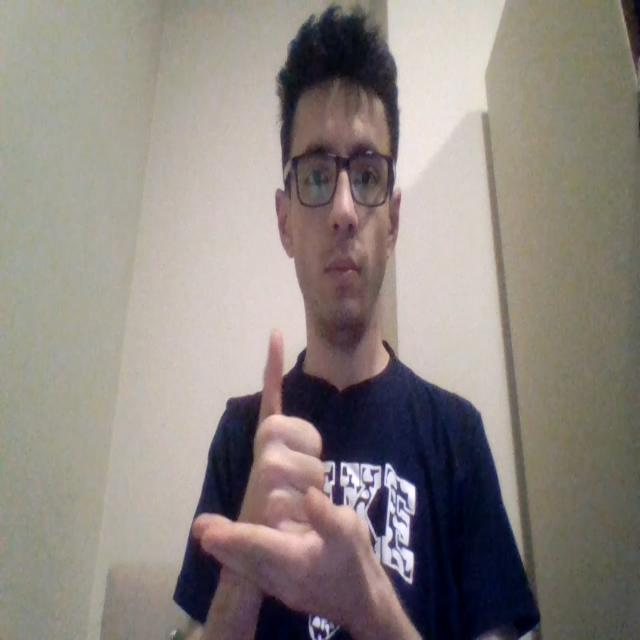help: (199, 334, 385, 618)
